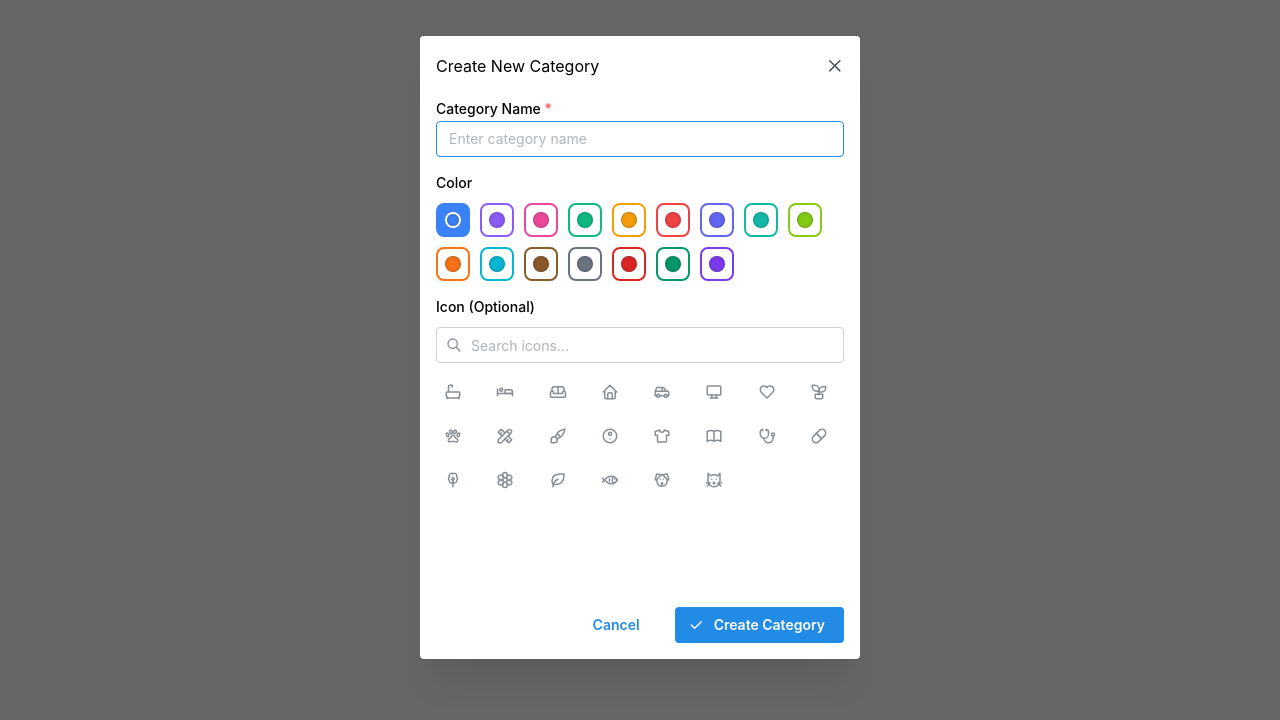
Scenario: CategoryForm › Form Interactions › disables form during loading
Type "Test" into the field labelled "Category Name *".
click(640, 139); type("Test")  # box [436,121,844,157]
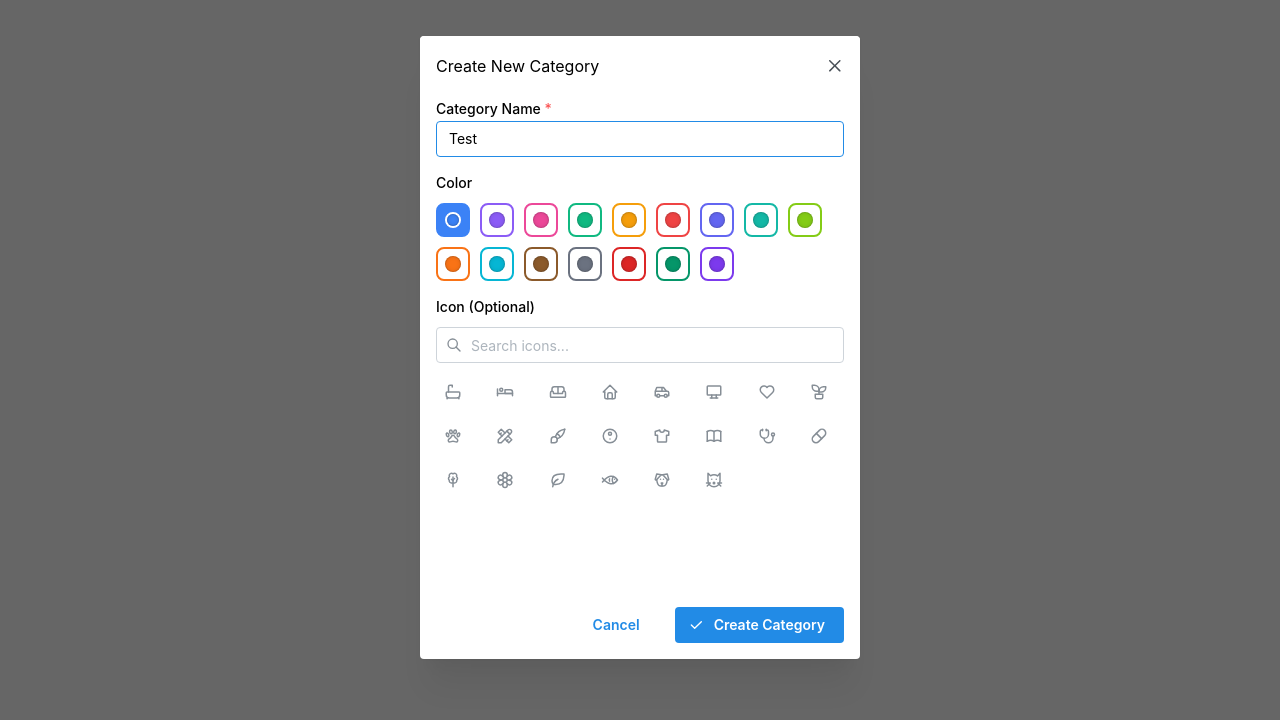
Click the button "Create Category".
click(759, 625)  # box [675,607,844,643]
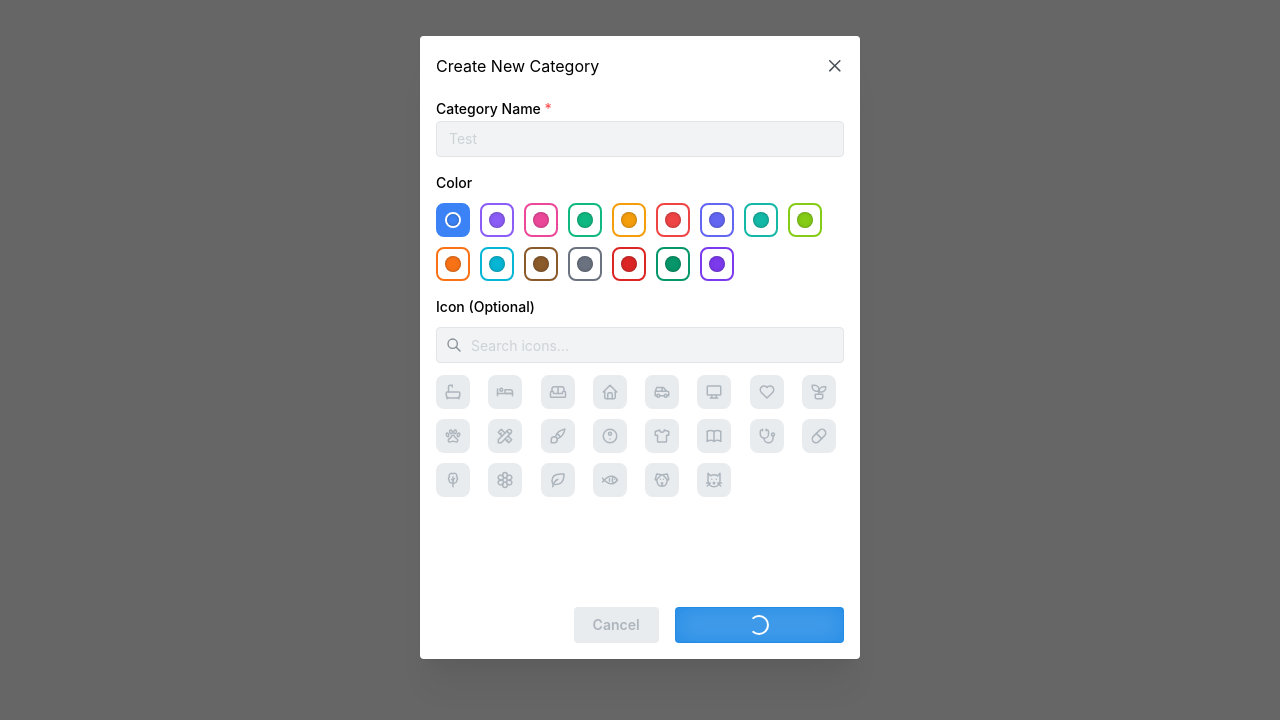
Now the field labelled "Category Name *" is disabled, box [436,121,844,157]
Now the button "Cancel" is disabled, box [574,607,659,643]
